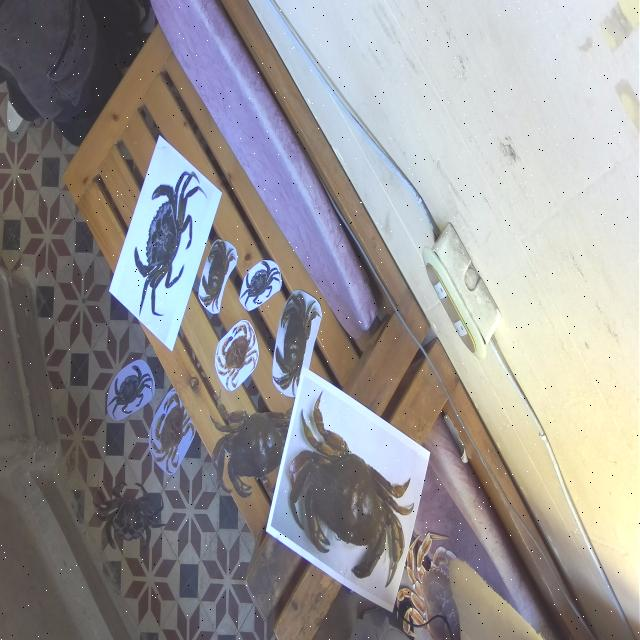European_Green_Crab: (119, 145, 211, 340), (90, 474, 171, 560), (103, 356, 156, 427), (235, 251, 284, 317)
